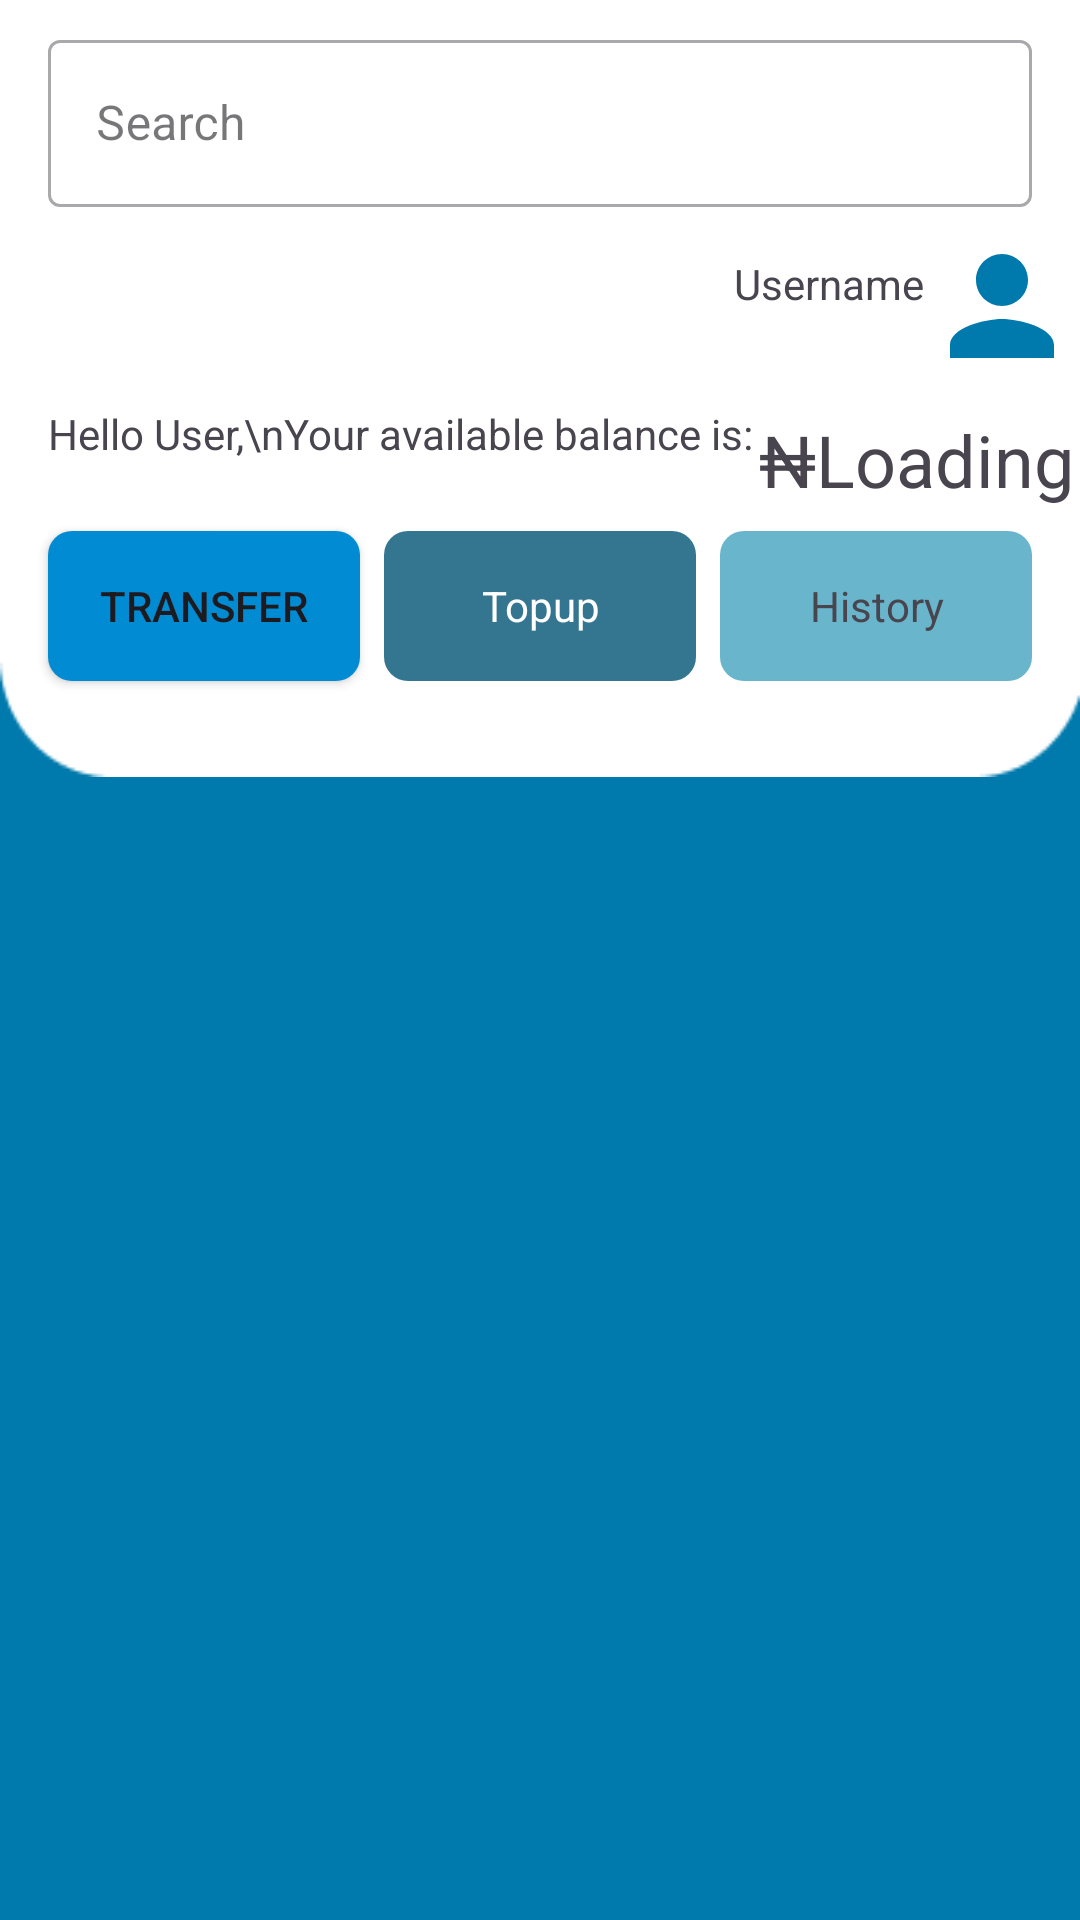

Locate icon controls on the screen. Image size 1080*1920, boxes as (x1, y1, x2, y2).
person: (950, 254, 1054, 358)
